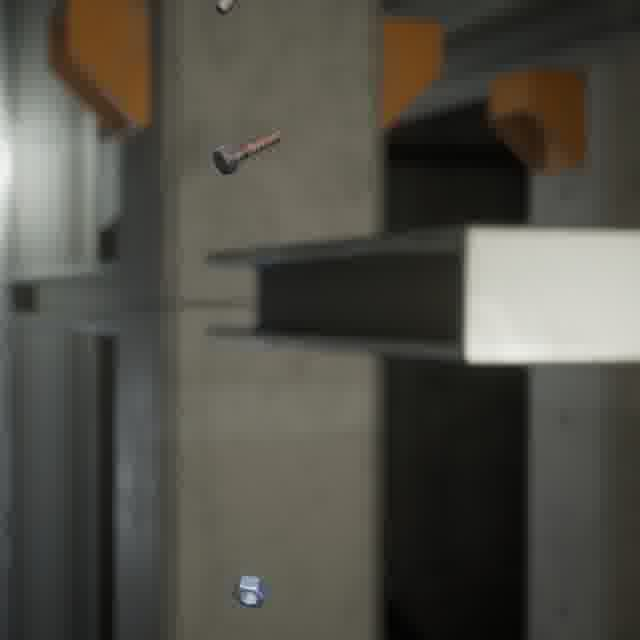bolt: (208, 125, 286, 179)
nut: (227, 570, 274, 612)
